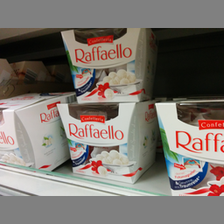candy: (56, 102, 152, 183), (153, 100, 224, 196), (61, 29, 150, 103), (1, 92, 76, 172)
